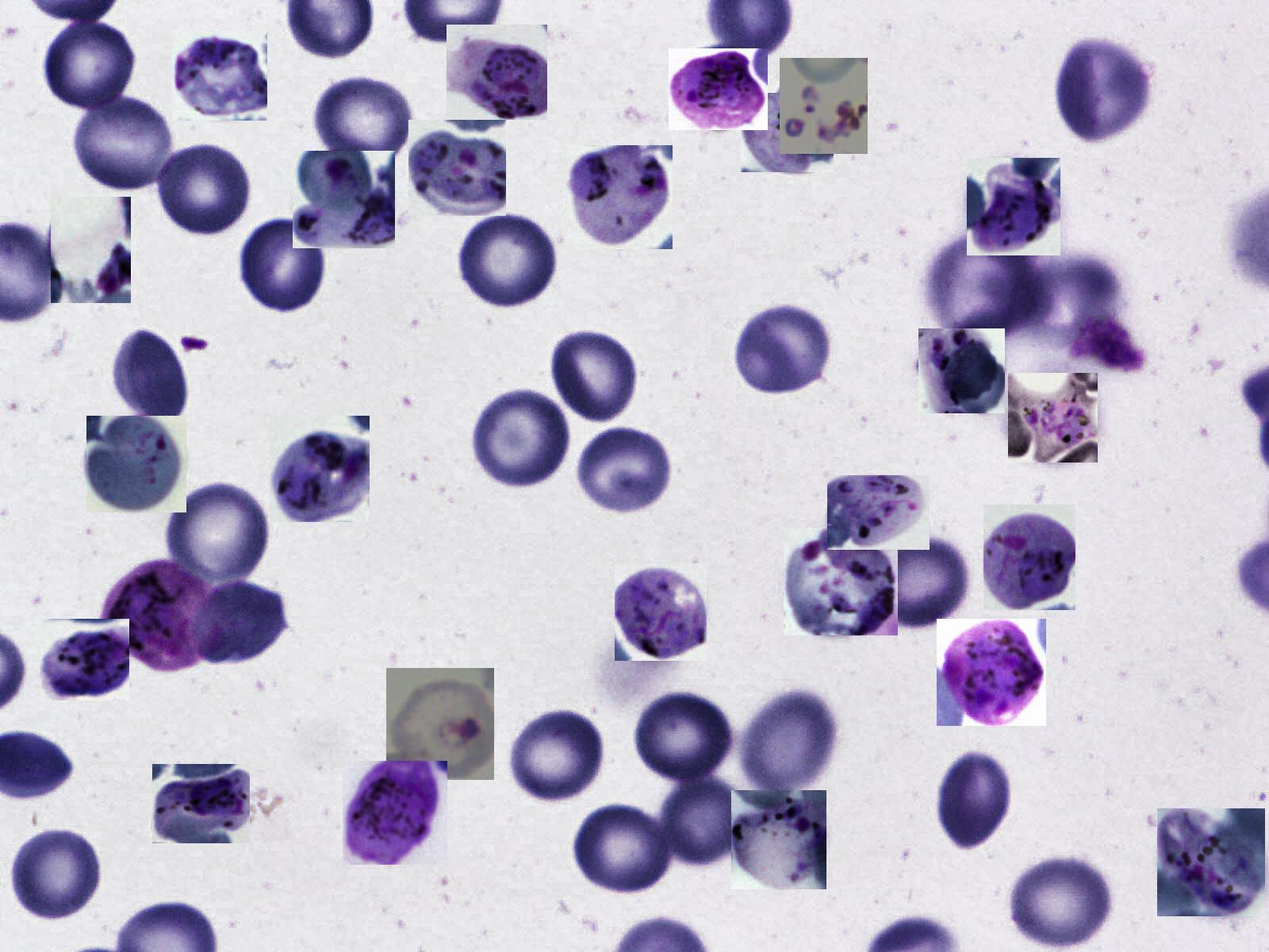Infected: (102, 559, 228, 673), (784, 528, 898, 635), (386, 668, 494, 780), (1157, 808, 1265, 916), (937, 619, 1046, 726), (566, 145, 673, 249), (343, 761, 447, 865), (270, 416, 370, 522), (293, 151, 395, 248), (983, 505, 1075, 610), (86, 416, 186, 512), (447, 25, 547, 120), (408, 120, 506, 216), (731, 790, 826, 889), (967, 158, 1060, 255), (615, 563, 707, 661), (172, 31, 267, 121), (51, 198, 131, 304), (780, 58, 868, 154), (669, 48, 768, 130), (1008, 373, 1098, 463), (152, 764, 250, 843), (827, 475, 930, 550), (918, 328, 1005, 413), (741, 93, 834, 172), (40, 619, 129, 701)
Uninfected: (924, 233, 1043, 344), (161, 477, 275, 585), (629, 685, 738, 788), (1007, 851, 1113, 950), (471, 387, 573, 488), (740, 692, 838, 796), (73, 94, 174, 191), (510, 709, 610, 806), (1055, 39, 1149, 142), (460, 213, 558, 308), (312, 75, 410, 170), (870, 537, 970, 630), (39, 17, 135, 113), (731, 303, 834, 392), (239, 214, 329, 315), (574, 805, 673, 896), (7, 827, 102, 920), (577, 425, 675, 513), (158, 144, 251, 236), (1031, 254, 1124, 345), (659, 774, 746, 863), (190, 583, 287, 662), (937, 747, 1010, 850), (551, 331, 635, 420), (113, 328, 189, 426)
